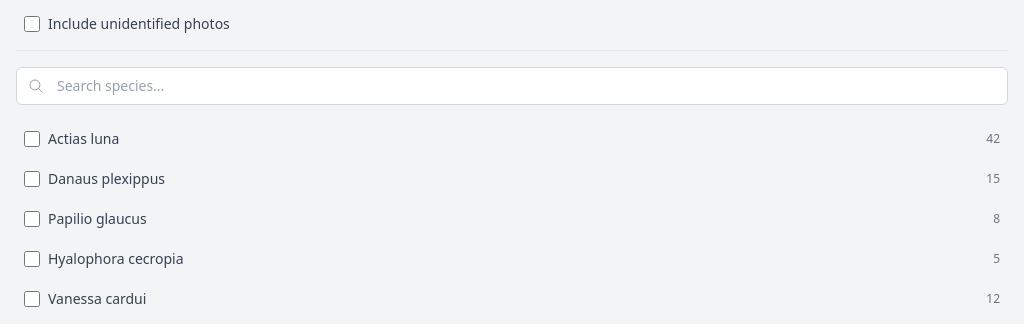
SpeciesFilter › Search Functionality › shows no results message when search matches nothing
Expected: the text "Actias luna" is shown, [48, 129, 119, 148]
Type "xyz123" into the field with placeholder "Search species..." at (512, 86), box [16, 67, 1008, 105]
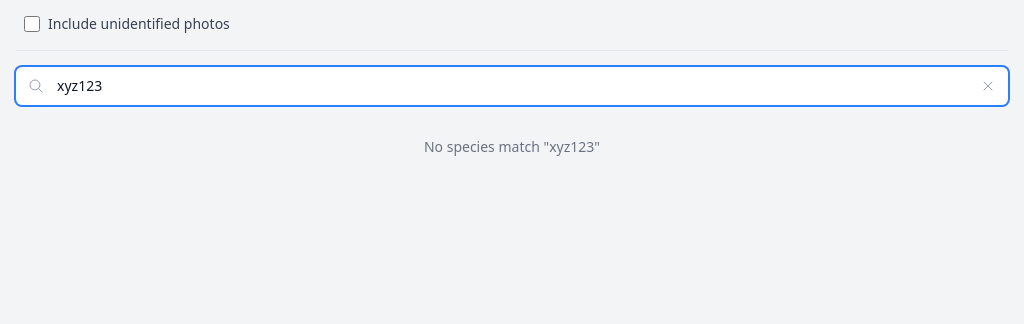
Now the text "No species match \"xyz123\"" is shown, box [424, 137, 600, 156]
